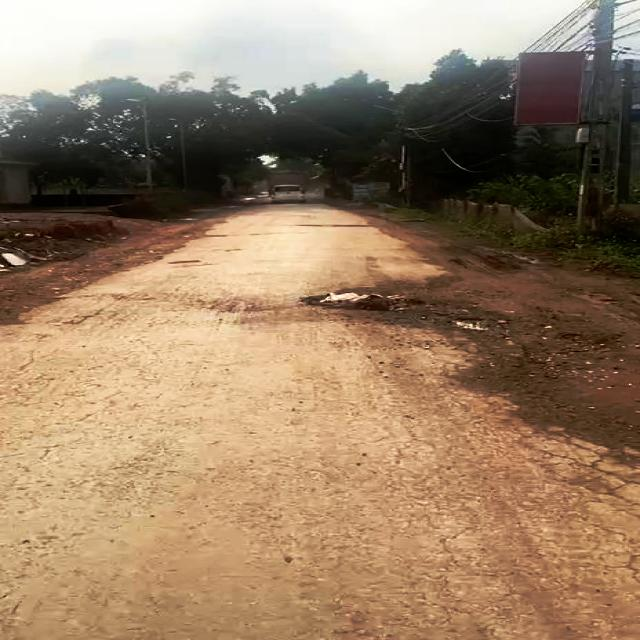pothole: (302, 290, 432, 314)
